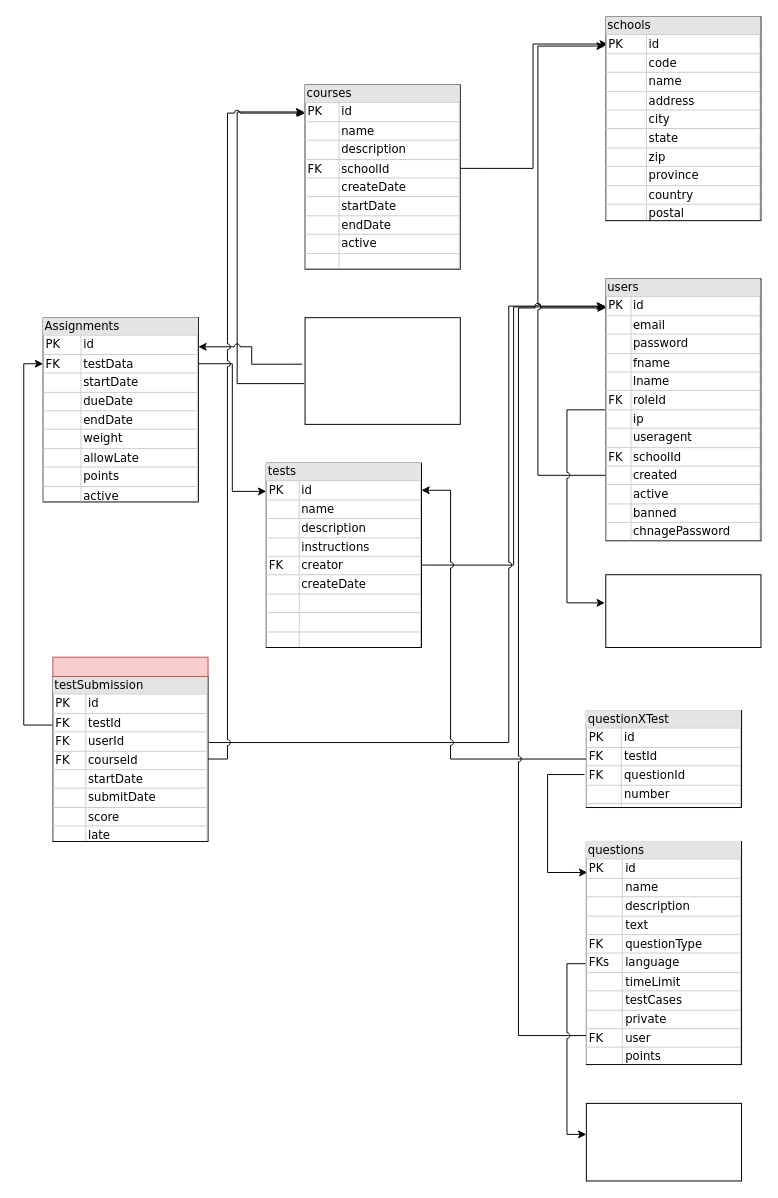
This 778x1198 diagram has some shape labels left out. Each missing label, with the centre of its shape:
assignmentXCourse PK id FK assignId FK courseId active: point (382, 370)
enumLanguages PK id name value: point (663, 1141)
Need renaming: point (130, 666)
roles PK id name: point (683, 610)
